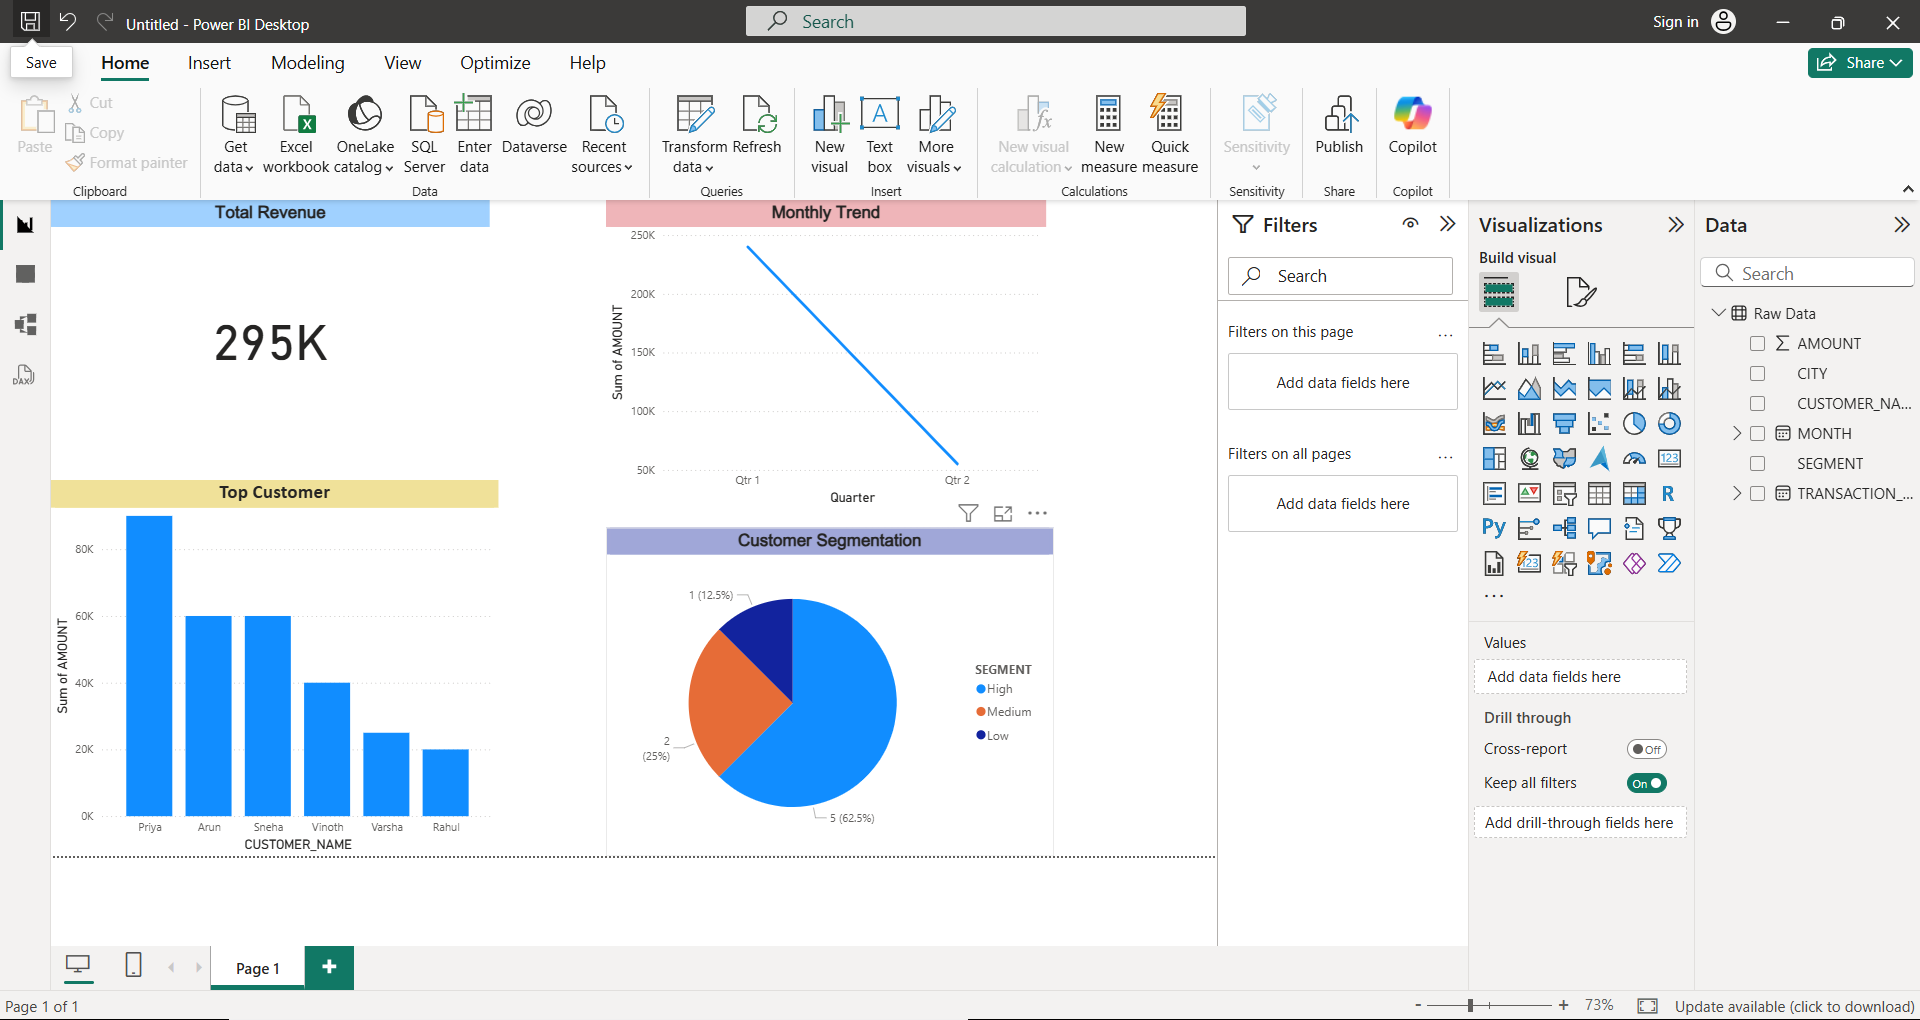

Layout of this report page (visuals, bound fields, positions):
{"tool":"powerbi","page":{"name":"Page 1","canvas":[1280,720],"ordinal":0},"visuals":[{"type":"card","title":"Total Revenue","fields":{"Values":["Sum(Raw Data.AMOUNT)"]},"box":[0,0,481.6,274.4],"z":0},{"type":"clusteredColumnChart","title":"Top Customer","fields":{"Category":["Raw Data.CUSTOMER_NAME"],"Y":["Sum(Raw Data.AMOUNT)"]},"box":[0,307.4,491.3,413],"z":2},{"type":"lineChart","title":"Monthly Trend","fields":{"Category":["Raw Data.MONTH.Variation.Date Hierarchy.Quarter","Raw Data.MONTH.Variation.Date Hierarchy.Month","Raw Data.MONTH.Variation.Date Hierarchy.Day"],"Y":["Sum(Raw Data.AMOUNT)"]},"box":[609.3,0,483,340.3],"z":3},{"type":"pieChart","title":"Customer Segmentation","fields":{"Category":["Raw Data.SEGMENT"],"Y":["CountNonNull(Raw Data.SEGMENT)"]},"box":[609.3,359.5,491.3,360.9],"z":4}]}

Visuals, with their boxes on the page's 1280x720 design canvas (x1, y1, x2, y2). These are canvas units, not pixel positions in the 1920x1020 screenshot, which may show the page scaled, cropped or inside an application window:
"Total Revenue" card: left=0, top=0, right=482, bottom=274
"Top Customer" clusteredColumnChart: left=0, top=307, right=491, bottom=720
"Monthly Trend" lineChart: left=609, top=0, right=1092, bottom=340
"Customer Segmentation" pieChart: left=609, top=360, right=1101, bottom=720
